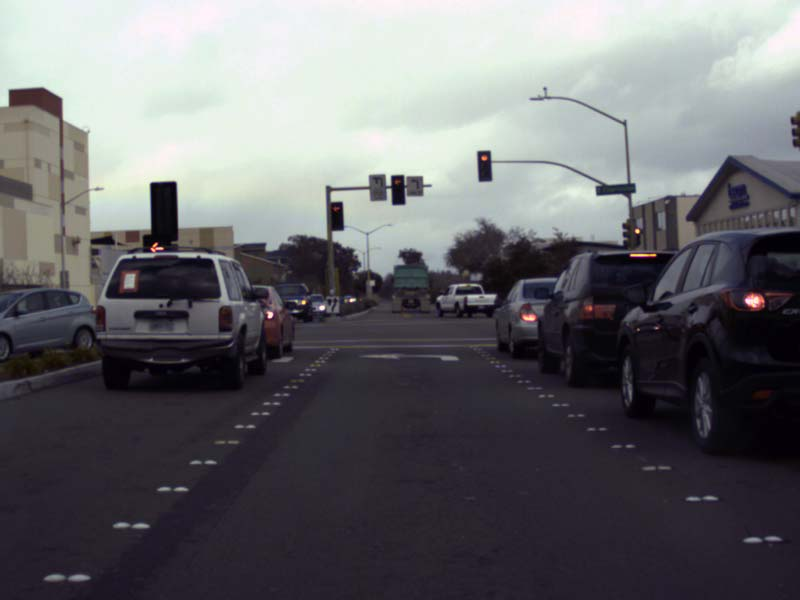Red: (143, 235, 168, 286), (477, 150, 491, 180), (330, 201, 343, 230), (391, 175, 404, 204), (634, 227, 641, 247)
